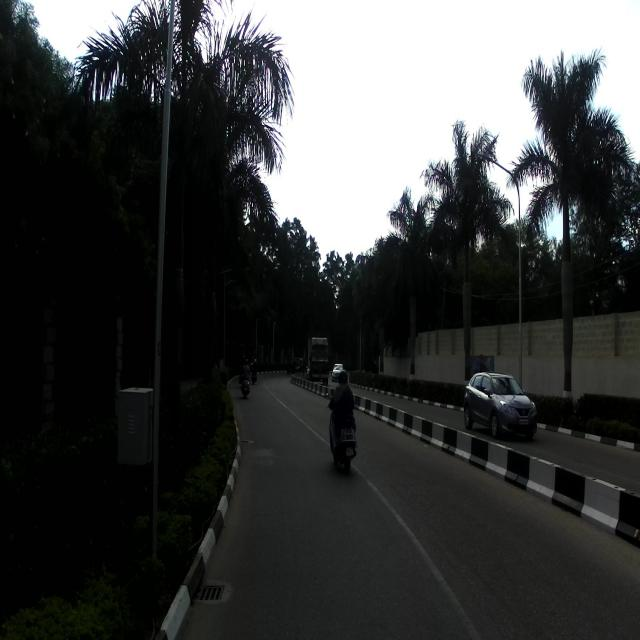car: (462, 370, 538, 441)
scooter: (325, 393, 357, 475)
